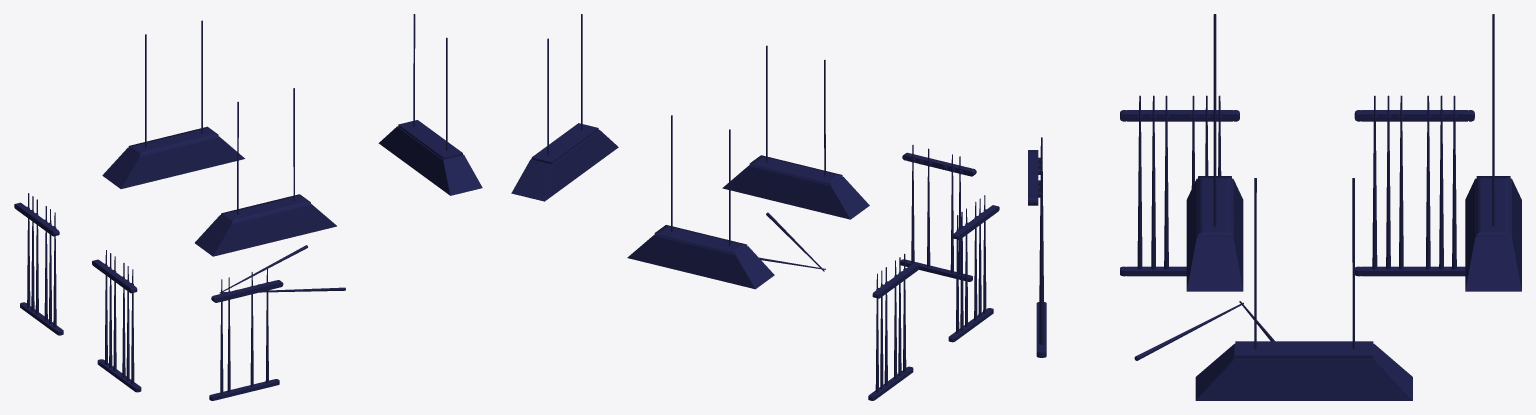
Rendered from PalosPool_y_Luces.fbx.
3 views of the same model, side by side, from view 1: azimuth 30°, elevation 25°; view 2: azimuth 150°, elevation 25°; view 3: azimuth 270°, elevation 25° (orthographic). The views are drawn at different scales.
Visible parts, largest first — view 1: Protector (×3), Parte_de_arriba (×3), Luces_pool_base (×3), Parte_de_abajo; view 2: Protector (×3), Parte_de_arriba (×3), Luces_pool_base (×3), Parte_de_abajo; view 3: Protector (×3), Parte_de_arriba (×3), Luces_pool_base (×3), Parte_de_abajo (×3), Palo (×3), Palo1 (×3), Palo2 (×2), Palo5, Palo4, Palo3.
Boxes of the visible parts, x1,y1,x2,y2 form: Protector (×3): (102, 120, 482, 256); Parte_de_arriba (×3): (14, 202, 283, 302); Luces_pool_base (×3): (145, 14, 447, 214); Parte_de_abajo: (209, 379, 279, 400); Protector (×3): (511, 123, 869, 289); Parte_de_arriba (×3): (872, 152, 999, 298); Luces_pool_base (×3): (547, 14, 825, 246); Parte_de_abajo: (900, 259, 972, 281); Protector (×3): (1186, 176, 1521, 400); Parte_de_arriba (×3): (1028, 110, 1474, 205); Luces_pool_base (×3): (1213, 14, 1494, 348); Parte_de_abajo (×3): (1036, 266, 1465, 357); Palo (×3): (1039, 95, 1377, 344); Palo1 (×3): (1134, 95, 1390, 360); Palo2 (×2): (1164, 95, 1403, 269); Palo5: (1452, 95, 1456, 269); Palo4: (1439, 95, 1443, 269); Palo3: (1426, 95, 1430, 269).
Bounding box in the file's own units: 562 × 336 × 422.
